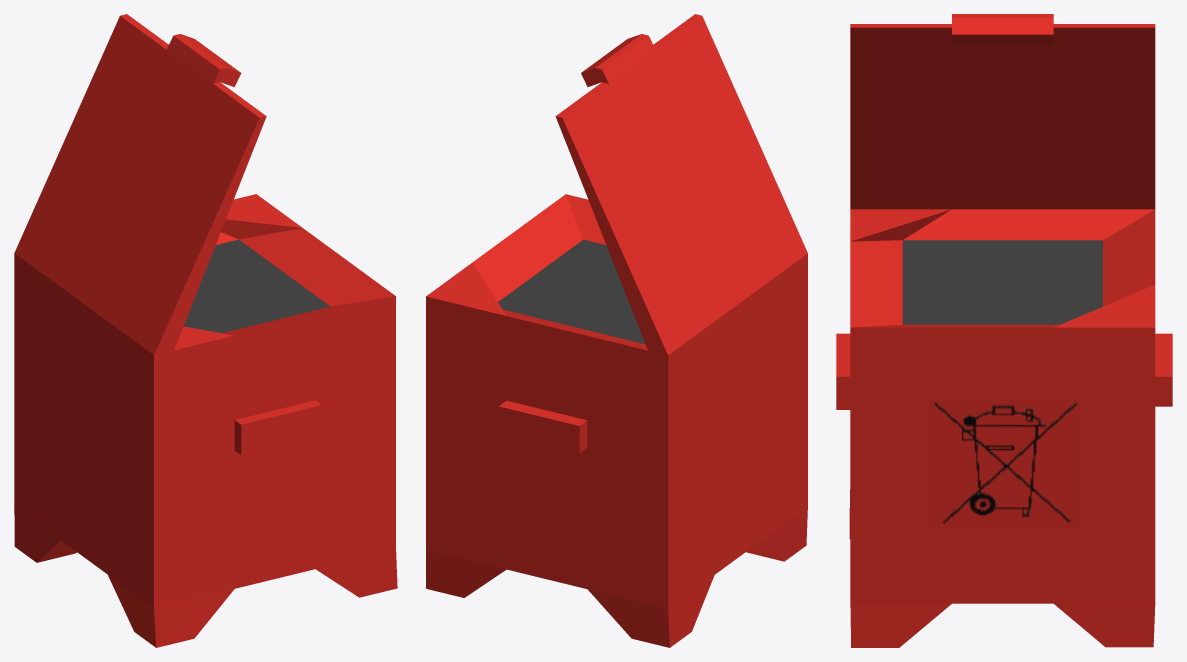
Rendered from boteElect.obj.
The picture shows the model from 3 angles, left to right: view 1: azimuth 30°, elevation 25°; view 2: azimuth 150°, elevation 25°; view 3: azimuth 270°, elevation 25°; orthographic projection. The views are drawn at different scales.
Parts seen in each view (by area): view 1: Cube_Cube.000; view 2: Cube_Cube.000; view 3: Cube_Cube.000.
Part boxes in pixels (x1,y1,x2,y2): Cube_Cube.000: [14, 14, 397, 647]; Cube_Cube.000: [426, 14, 807, 647]; Cube_Cube.000: [836, 14, 1172, 647].
Bounding box in the file's own units: 2.02 × 4.08 × 2.21.
